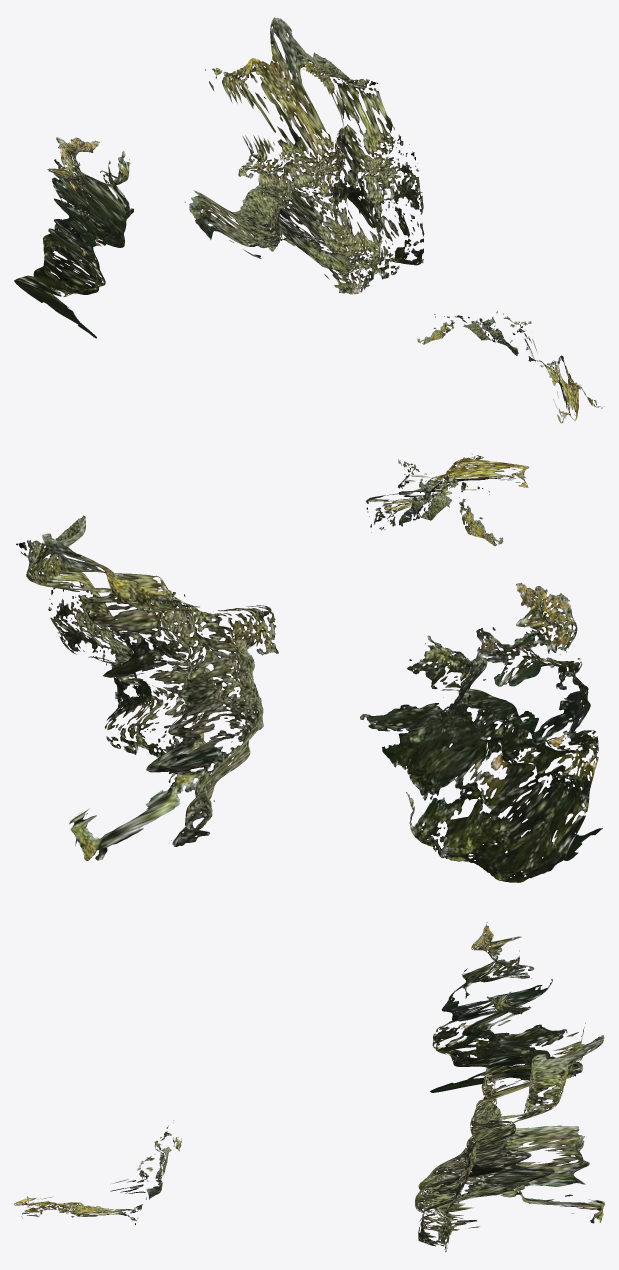
The model's file is appearance-13.glb.
The picture shows the model from 3 angles, top to bottom: view 1: azimuth 30°, elevation 25°; view 2: azimuth 150°, elevation 25°; view 3: azimuth 270°, elevation 25°; orthographic projection. The views are drawn at different scales.
Visible parts, largest first — view 1: middle, left, foreground; view 2: left, middle, foreground; view 3: middle, left, foreground.
Part boxes in pixels (<box>): middle: <box>184,17,424,294</box>; left: <box>14,137,133,338</box>; foreground: <box>417,311,602,423</box>; left: <box>360,583,602,882</box>; middle: <box>16,515,278,860</box>; foreground: <box>366,454,529,545</box>; middle: <box>415,1023,604,1251</box>; left: <box>430,922,582,1092</box>; foreground: <box>14,1120,181,1224</box>.
Bounding box in the file's own units: 12.26 × 6.96 × 17.59.
Materials: 3 (3 with a texture image).
